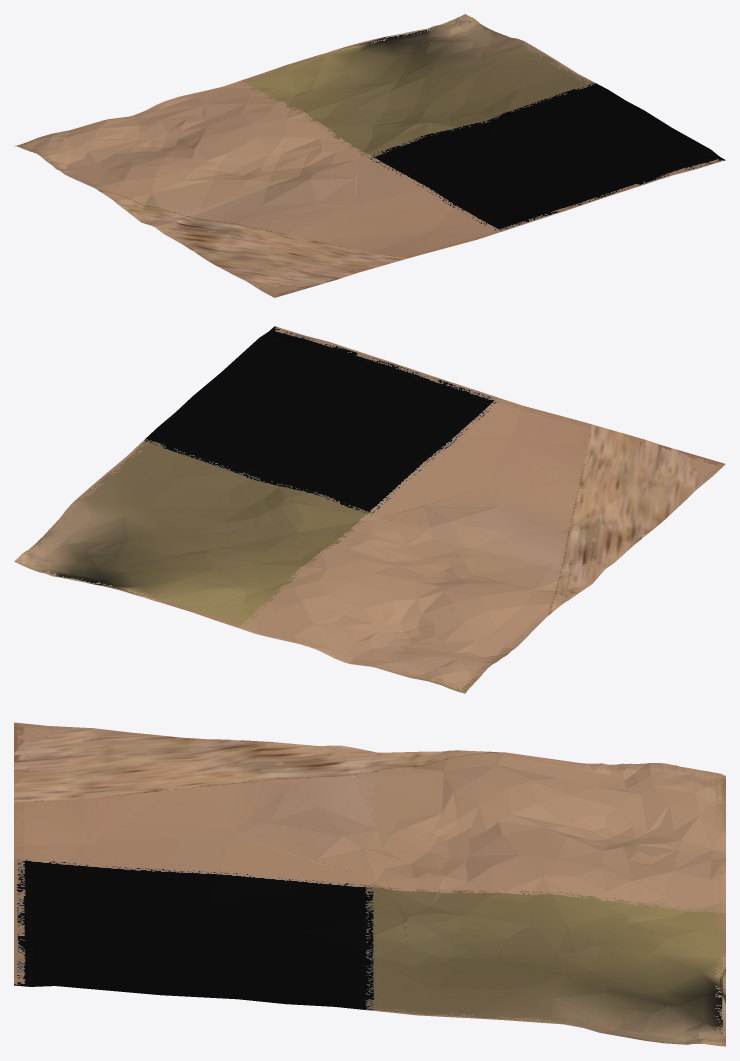
The picture shows the model from 3 angles, top to bottom: view 1: azimuth 30°, elevation 25°; view 2: azimuth 150°, elevation 25°; view 3: azimuth 270°, elevation 25°; orthographic projection. The views are drawn at different scales.
Bounding box in the file's own units: 2.09 × 0.2949 × 2.09.
2 materials, 2 textured.
